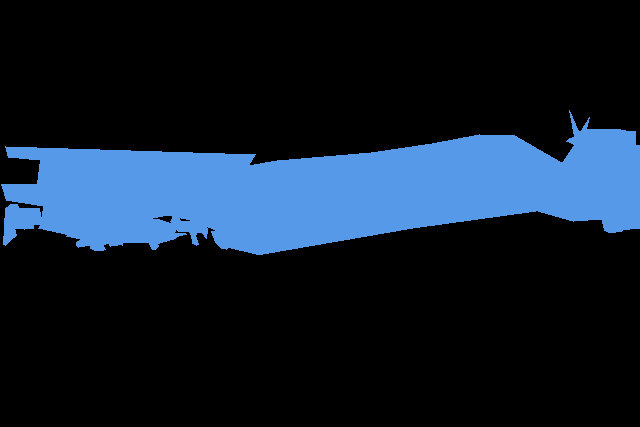Airplane: (1, 134, 607, 254), (534, 144, 640, 232), (66, 218, 186, 251), (566, 110, 636, 146), (170, 216, 230, 249), (3, 204, 43, 246)
